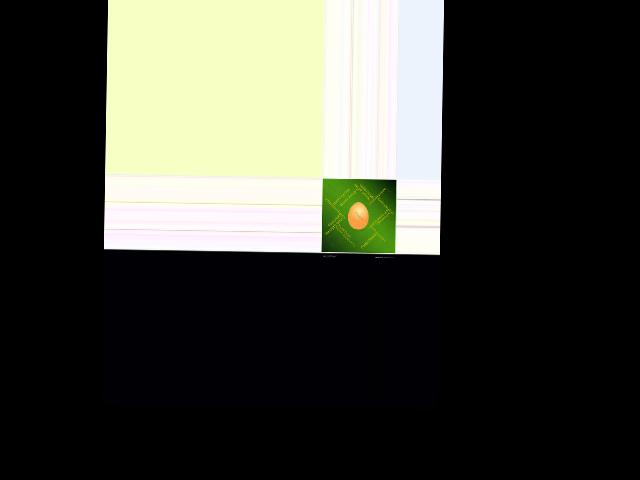egg: (348, 202, 369, 229)
